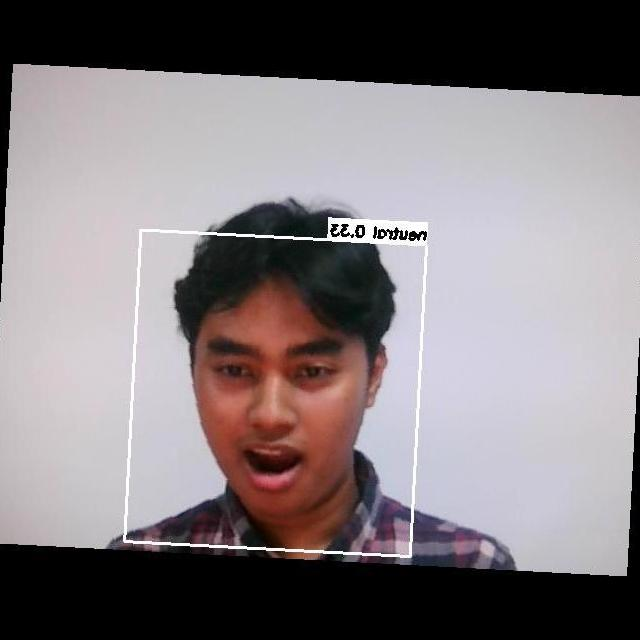Surprised: (195, 316, 369, 507)
